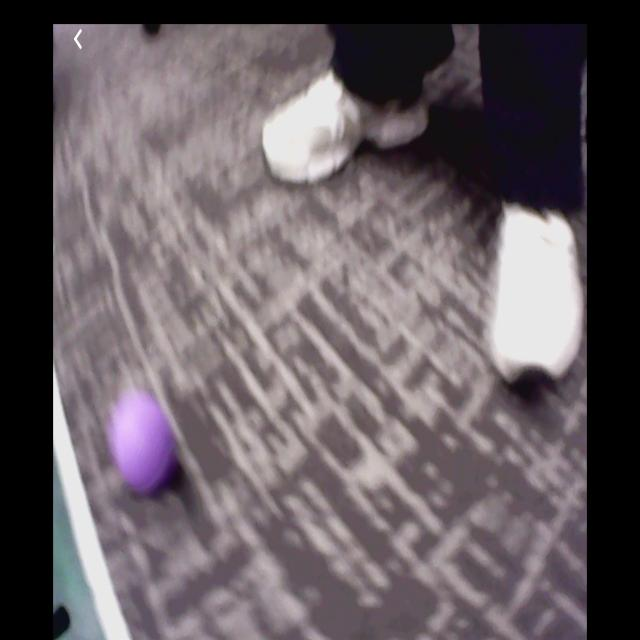ball: (114, 397, 178, 495)
